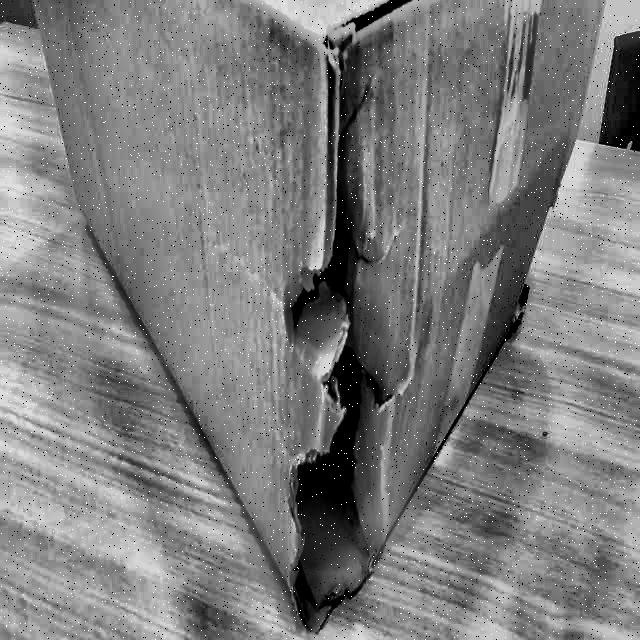box: (24, 0, 624, 639)
hole: (268, 189, 394, 607)
